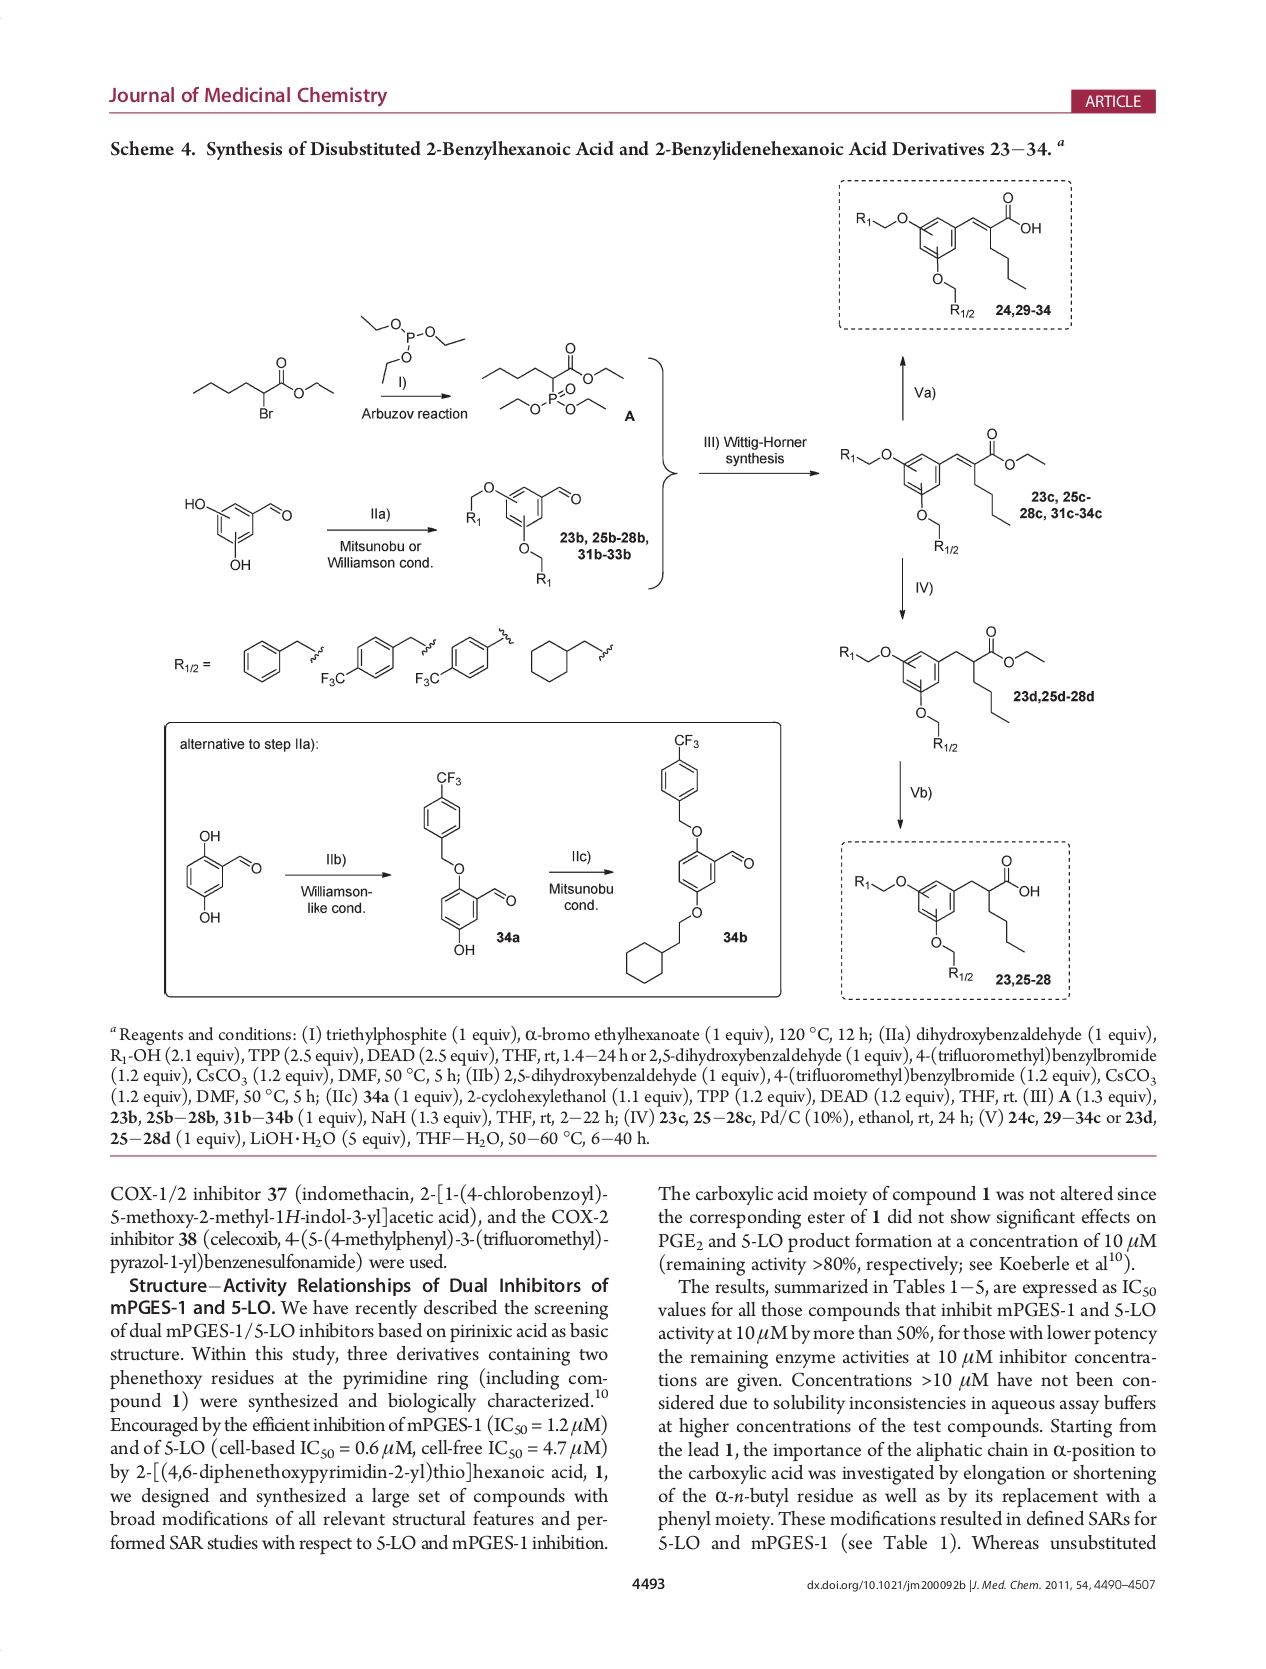exist_molecular: (624, 731, 758, 985), (836, 622, 1048, 758), (836, 426, 1051, 555), (852, 186, 1045, 321), (850, 851, 1043, 983), (422, 766, 519, 956), (463, 476, 584, 590), (189, 350, 338, 424), (477, 339, 626, 414), (178, 483, 297, 573), (177, 826, 265, 927), (356, 306, 465, 387), (320, 630, 439, 688), (415, 624, 516, 690), (524, 629, 618, 688), (239, 634, 326, 684)
